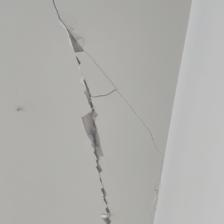Medium: (40, 5, 129, 214)
